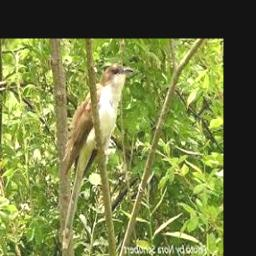Cuckoo: (62, 65, 134, 175)
